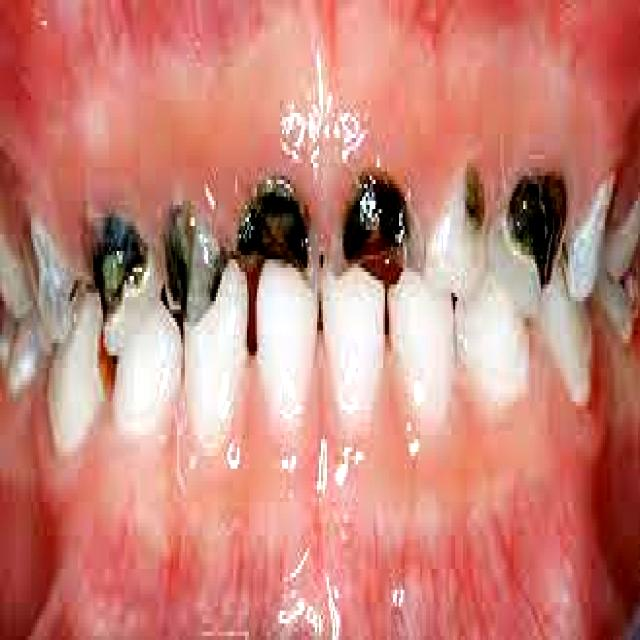cariess: (163, 201, 224, 322), (342, 172, 407, 280), (235, 180, 307, 268), (508, 176, 564, 284), (93, 218, 146, 289), (465, 163, 482, 226)
